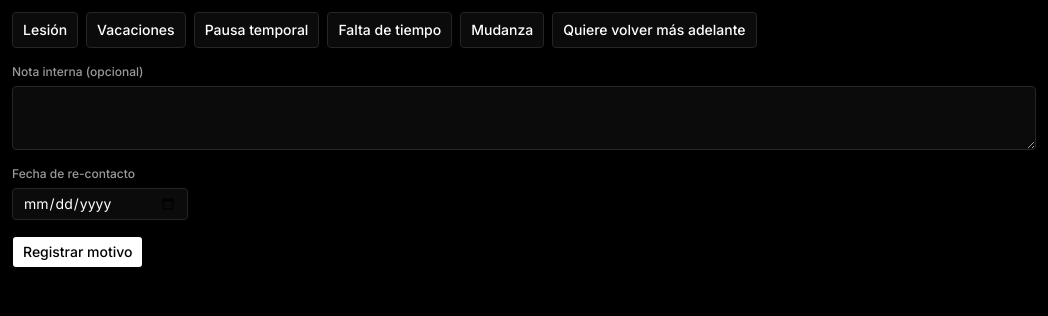
Test: InactivityReasonForm › clears the reason error once a reason is picked
The width and height of the screenshot is (1048, 316).
Click the button "Registrar motivo".
click(78, 252)  # box left=12, top=236, right=144, bottom=268
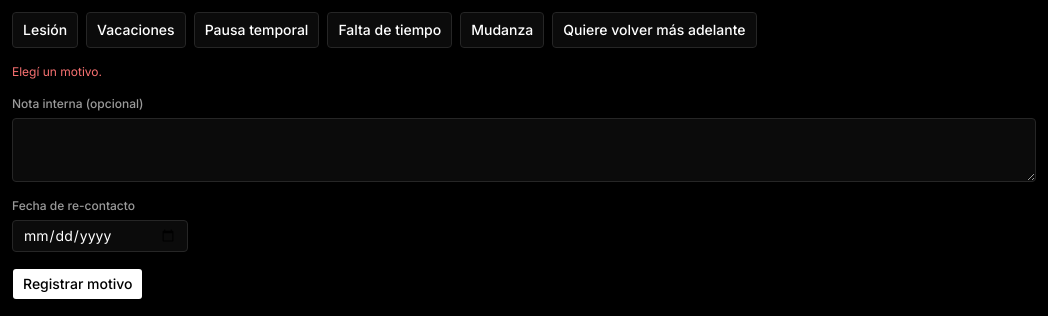
Expected: the text "Elegí un motivo." is shown, left=12, top=64, right=102, bottom=79
Click the button "Mudanza".
click(502, 30)  # box left=460, top=12, right=544, bottom=48
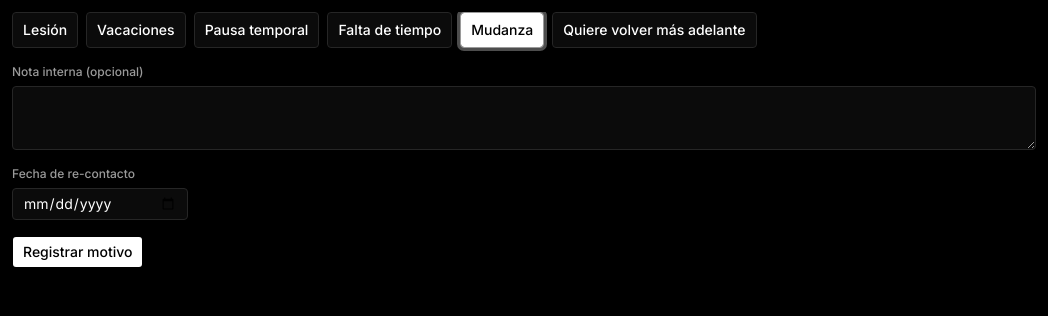
Expected: the text "Elegí un motivo." is gone
